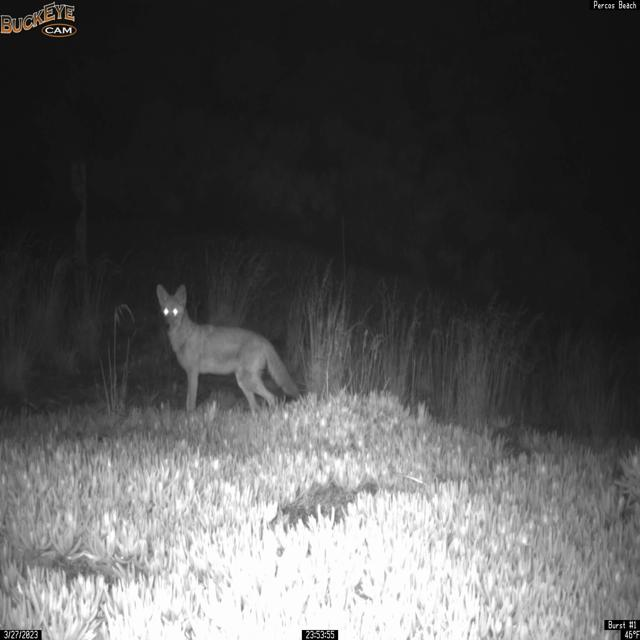coyote: (155, 283, 302, 415)
